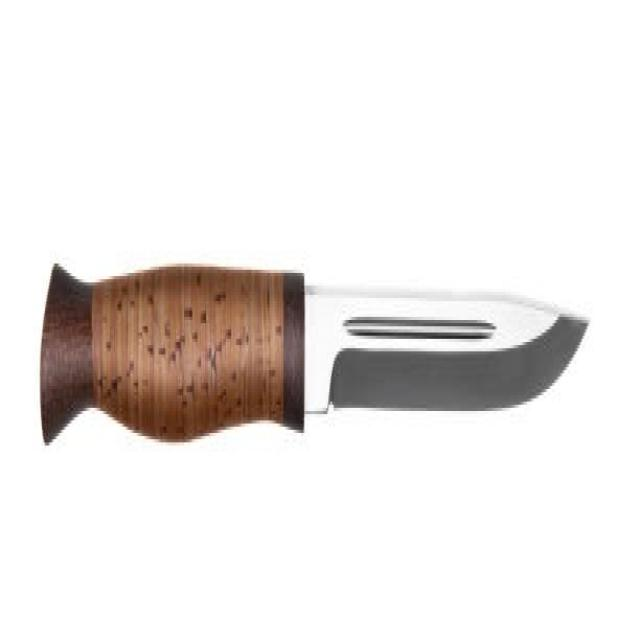knife: (35, 214, 587, 505)
